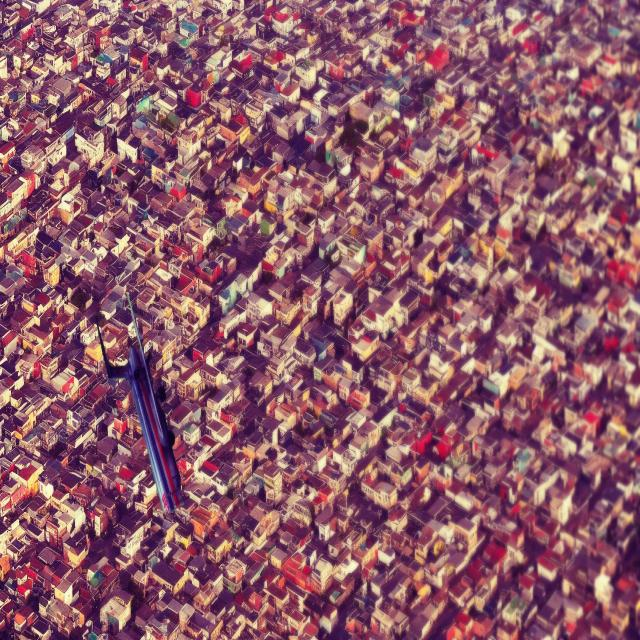airplane: (94, 289, 184, 516)
